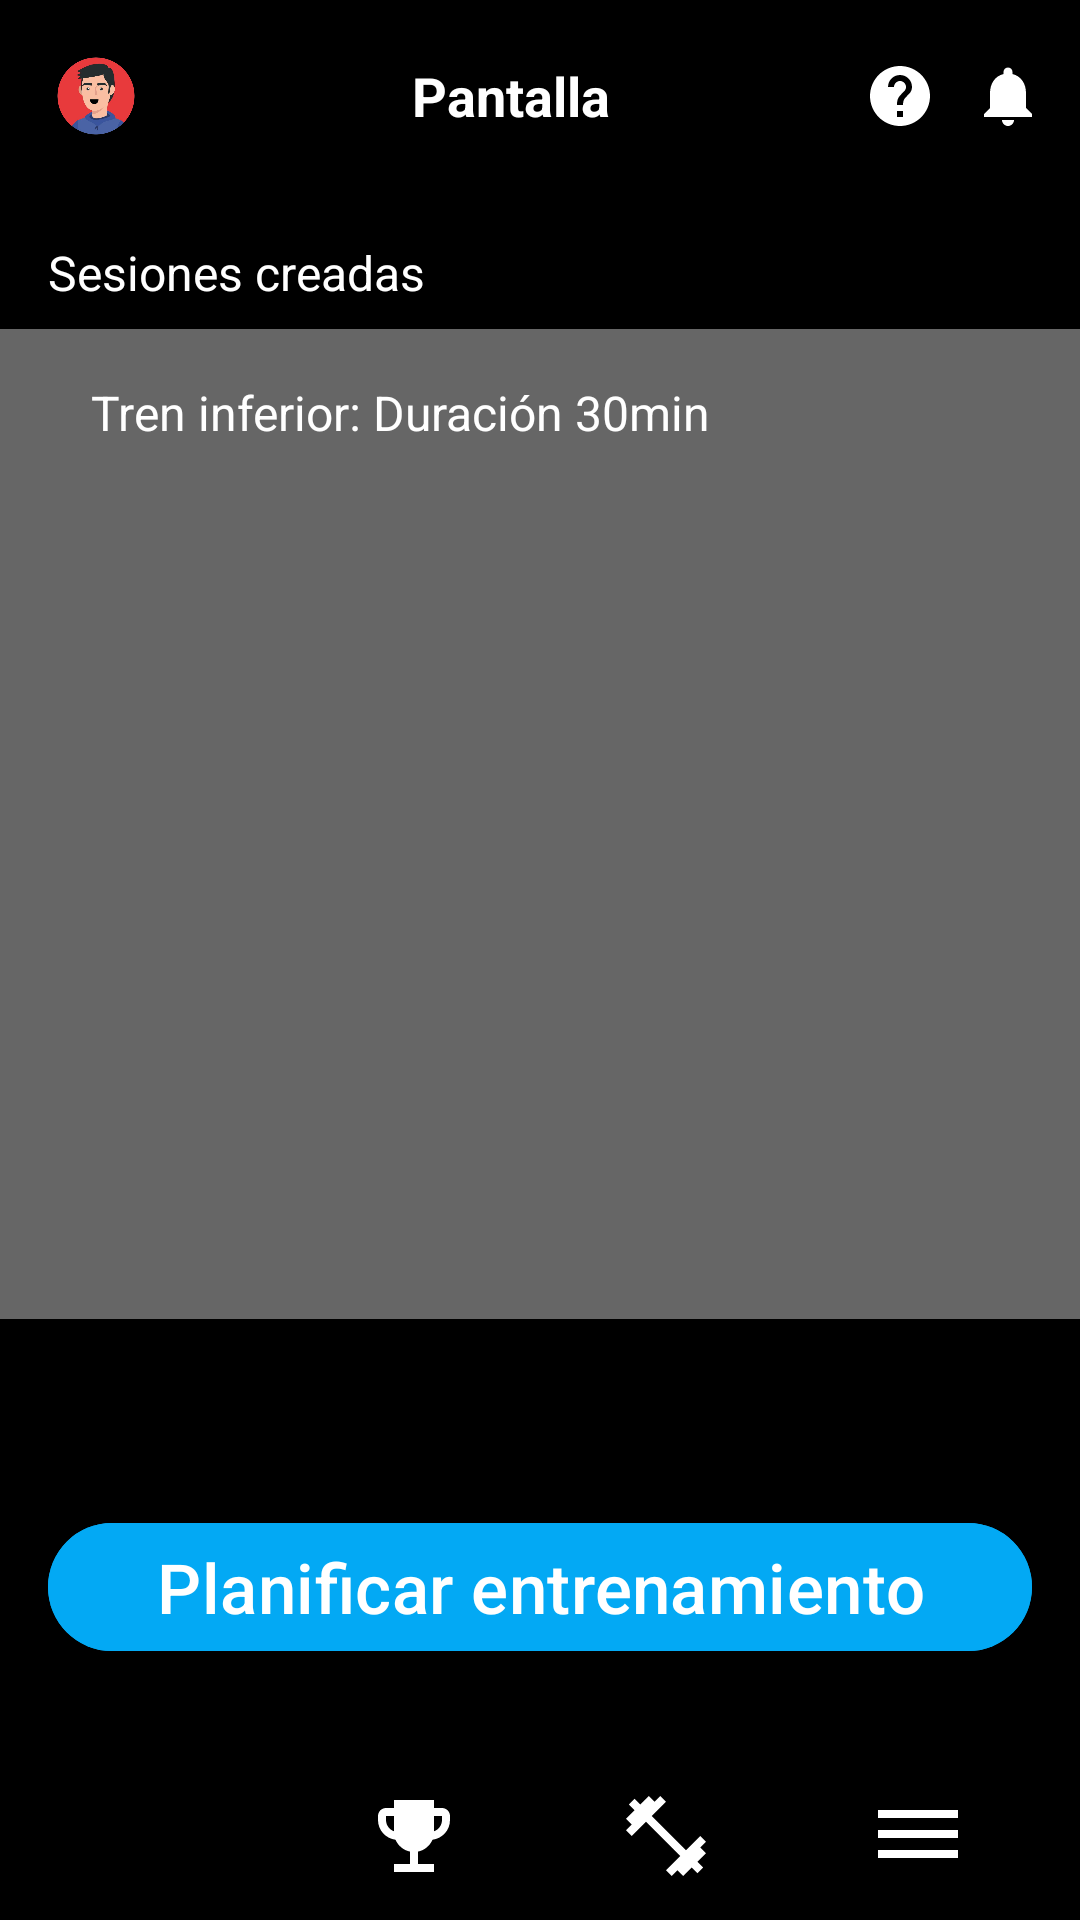

Icons on this 1080x1920 Android screen, each with the point to tap as (x,y):
Ayuda: (900,96)
Icono de entrenamiento: (666,1836)
Icono de logros: (414,1836)
Icono del menú: (918,1834)
Notificaciones: (1008,96)
